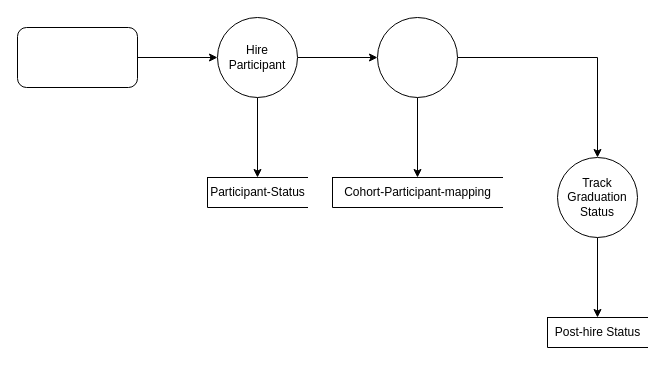
The diagram is 665 pixels wide and 365 high, and some of its shapes have lost their labels. Each missing label, with the box of its shape:
Assign Cohort: (376, 16, 458, 98)
HA: (16, 26, 138, 88)
